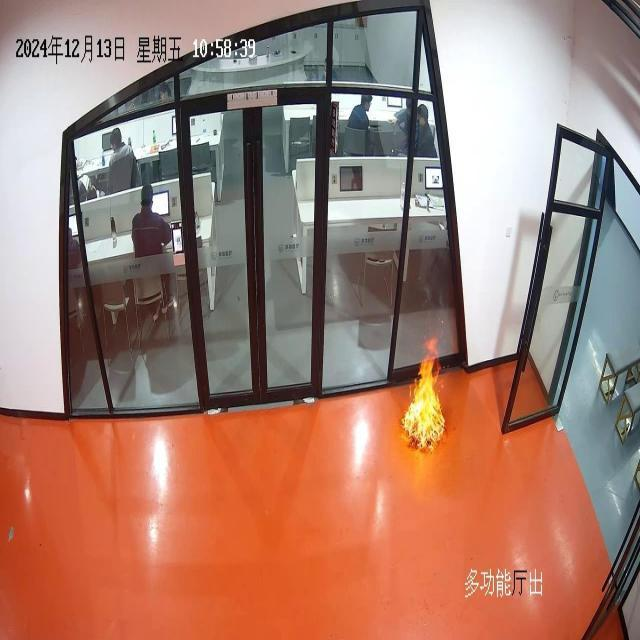smoke: (398, 334, 448, 454)
